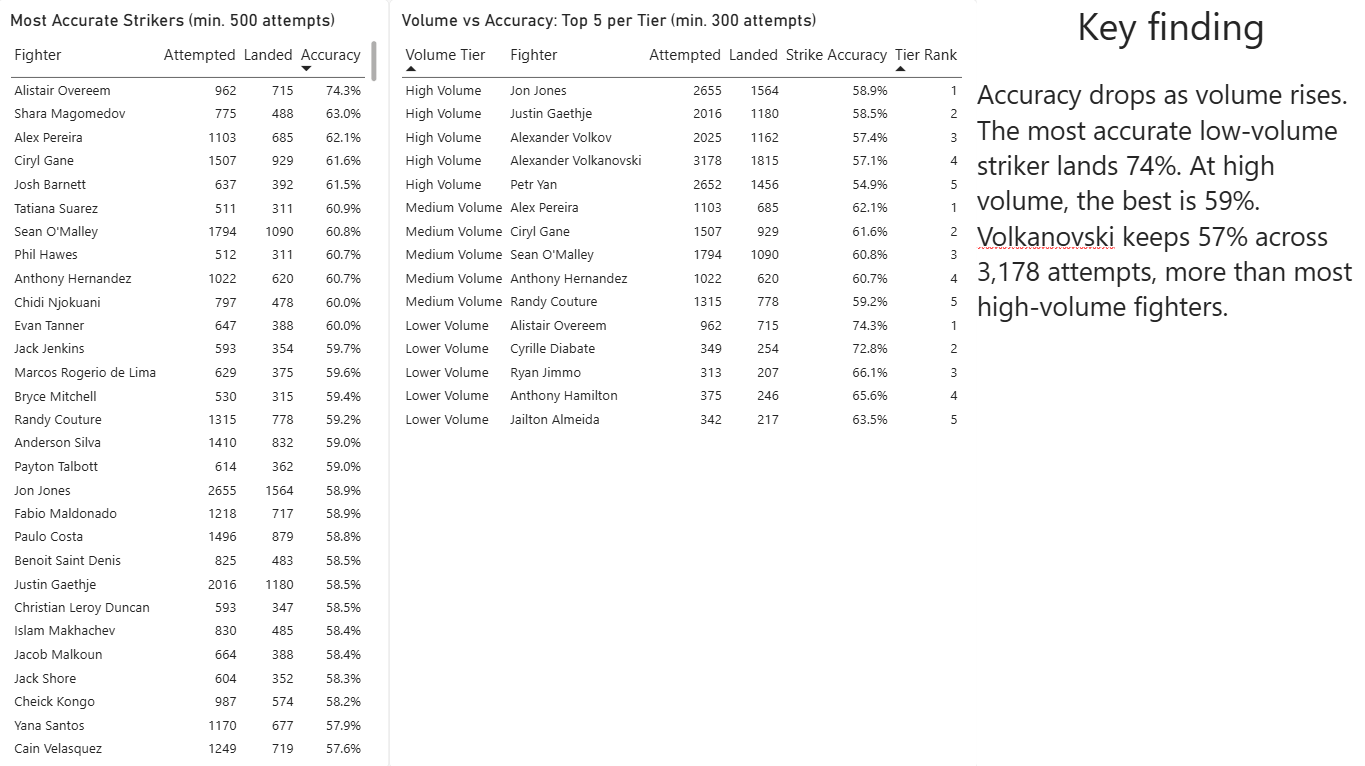

Layout of this report page (visuals, bound fields, positions):
{"tool":"powerbi","page":{"name":"Striking","canvas":[1920,1080],"ordinal":5},"visuals":[{"type":"tableEx","title":"Most Accurate Strikers (min. 500 attempts)","fields":{"Values":["fighter_fights.Fighter","fighter_fights.Attempted","fighter_fights.Landed","fighter_fights.Accuracy"]},"box":[0,0,549.1,1080],"z":0},{"type":"tableEx","title":"Volume vs Accuracy: Top 5 per Tier (min. 300 attempts)","fields":{"Values":["Fighter Strikes.Volume Tier","Fighter Strikes.Fighter","Sum(Fighter Strikes.Attempted)","Sum(Fighter Strikes.Landed)","Fighter Strikes.Strike Accuracy","Fighter Strikes.Tier Rank"]},"box":[549.1,0,825.5,1080],"z":1000},{"type":"textbox","box":[1374.5,0,545.5,1080],"z":1001}]}

Visuals, with their boxes in screenshot pixels (x1, y1, x2, y2), scaled from the page's 1920x1080 canvas onto the 1365x766 screenshot:
"Most Accurate Strikers (min. 500 attempts)" tableEx: <bbox>0, 0, 390, 765</bbox>
"Volume vs Accuracy: Top 5 per Tier (min. 300 attempts)" tableEx: <bbox>390, 0, 977, 765</bbox>
textbox: <bbox>977, 0, 1364, 765</bbox>
